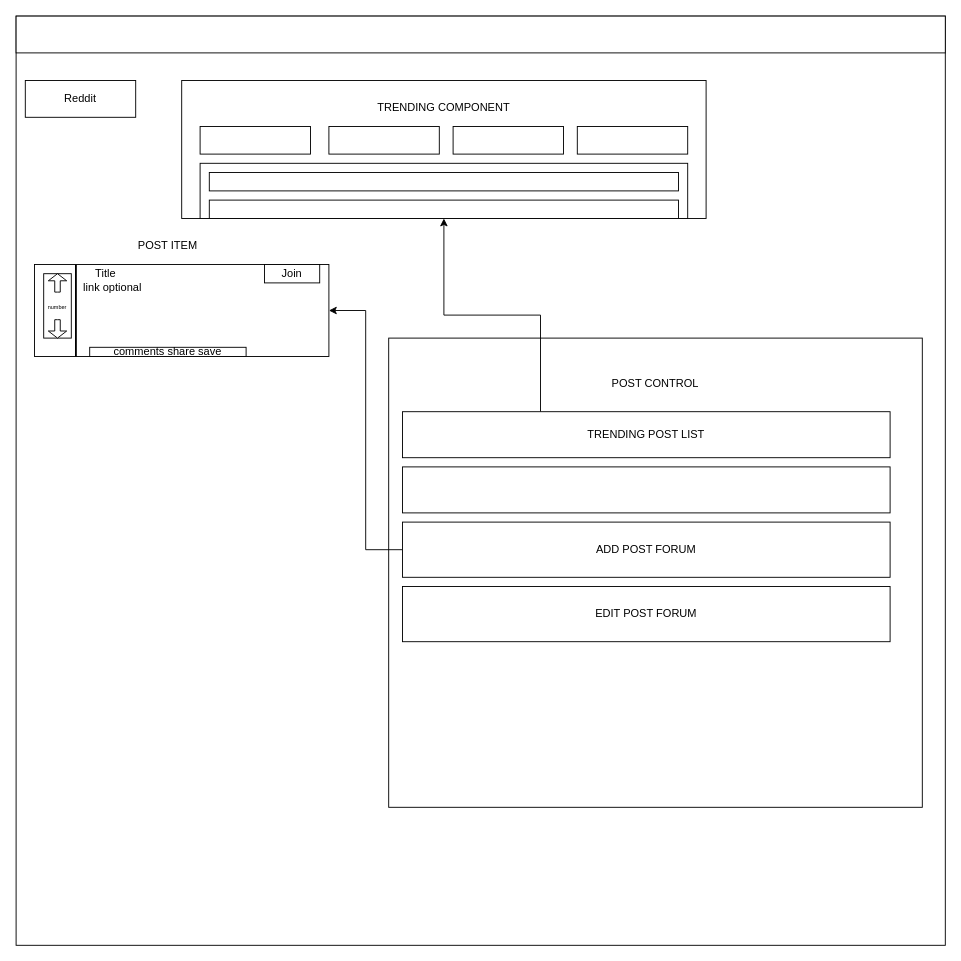
Some shapes in this 961 by 961 pixel diagram are drawn without their labels. The shapes that lost their labels are listed below. From the top down, each one's centre as x and y in pixels, then its label:
(x=480, y=34): HEADER CONTROL
(x=646, y=489): POST LIST
